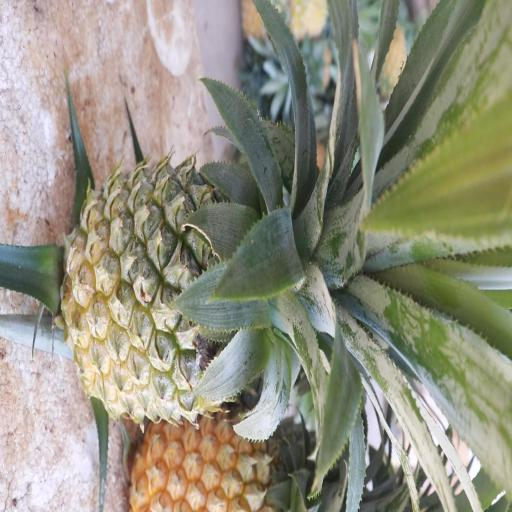------------------------------: (67, 157, 332, 417)
Pineapple - v8 v1: (136, 406, 319, 512)
